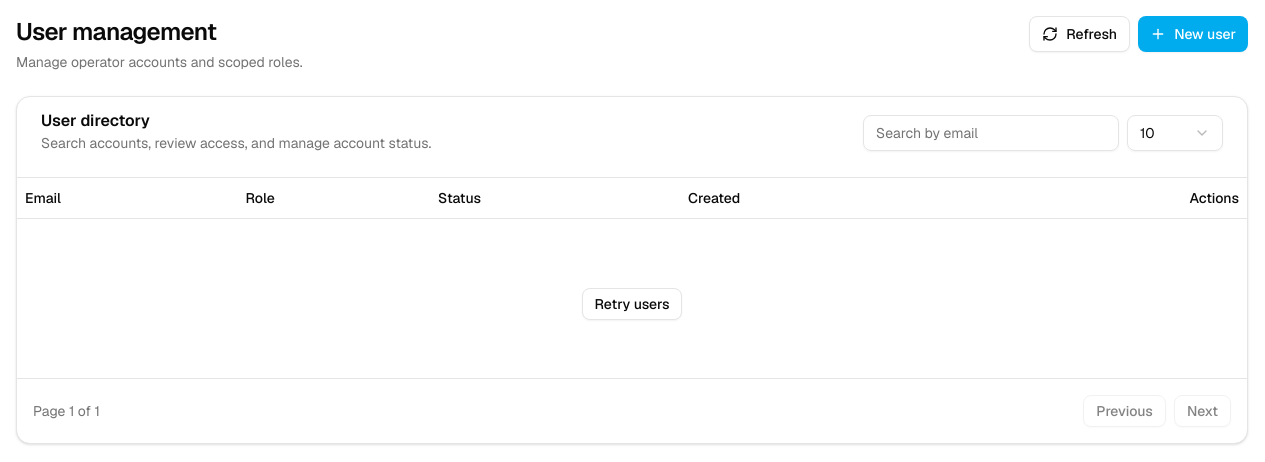
Scenario: shows list error and empty states without removing list controls
Expected: the search field named "Search users" is shown, 863,115 -> 1119,151
Click the button "Retry users" at (632, 304), box 582,288 -> 682,320
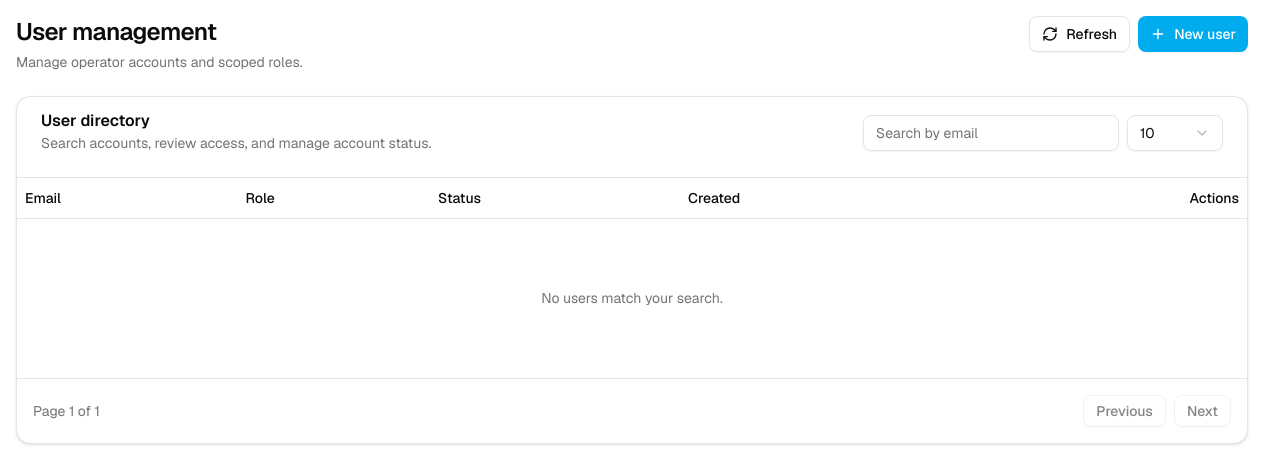
Result: the text "No users match your search." is shown at 17,218 -> 1247,378
